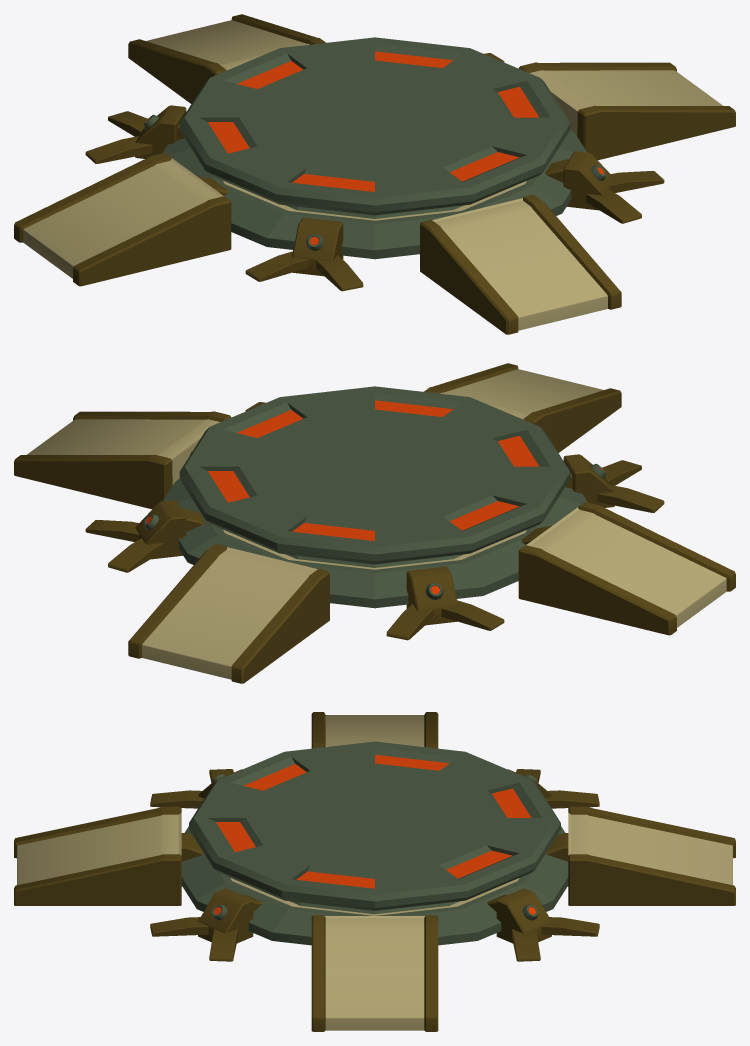
The model's file is OBJ_Jumpad.fbx.
The picture shows the model from 3 angles, top to bottom: view 1: azimuth 30°, elevation 25°; view 2: azimuth 150°, elevation 25°; view 3: azimuth 270°, elevation 25°; orthographic projection. The views are drawn at different scales.
Parts seen in each view (by area): view 1: Cylinder015, Jumpad_Zone; view 2: Cylinder015, Jumpad_Zone; view 3: Cylinder015, Jumpad_Zone.
Boxes of the visible parts, box(x1,y1,x2,y2) form: Cylinder015: box(14, 14, 735, 334); Jumpad_Zone: box(179, 37, 570, 215); Cylinder015: box(14, 363, 735, 683); Jumpad_Zone: box(179, 386, 570, 564); Cylinder015: box(14, 712, 735, 1031); Jumpad_Zone: box(189, 741, 560, 910).
Size of the model in its own units: 1403 by 131 by 1403.
